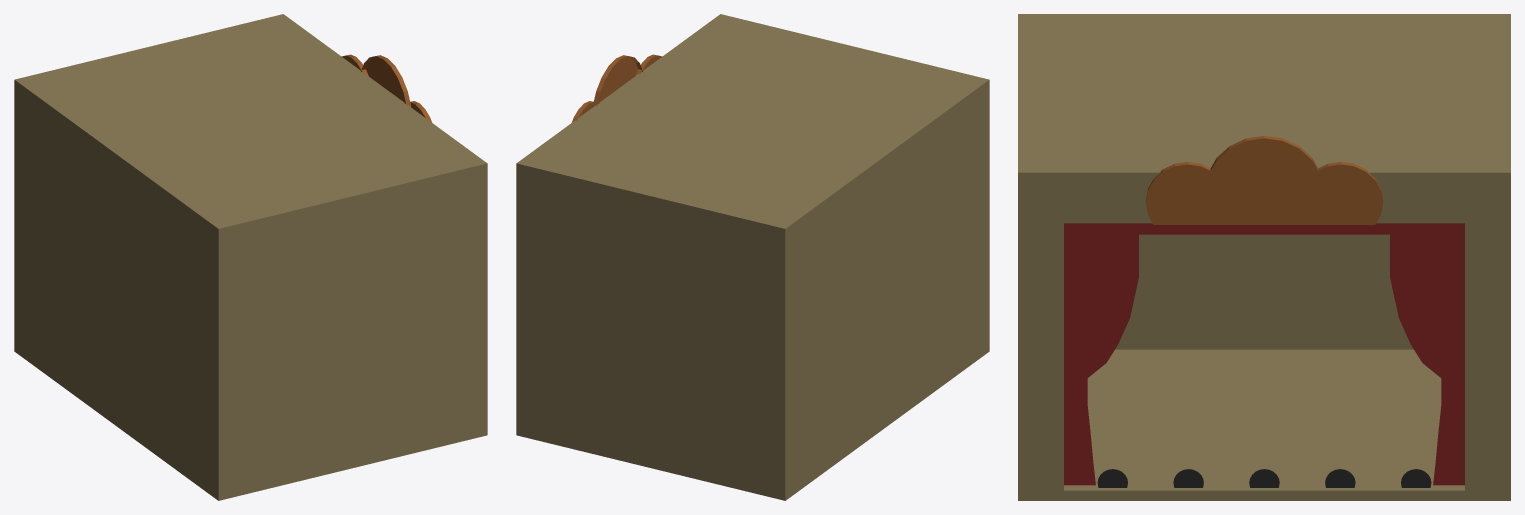
The model's file is Theatre1.fbx.
The picture shows the model from 3 angles, left to right: view 1: azimuth 30°, elevation 25°; view 2: azimuth 150°, elevation 25°; view 3: azimuth 270°, elevation 25°; orthographic projection. The views are drawn at different scales.
Parts seen in each view (by area): view 1: Theatre1; view 2: Theatre1; view 3: Theatre1.
Boxes of the visible parts, x1,y1,x2,y2 form: Theatre1: (14, 14, 487, 500); Theatre1: (516, 14, 989, 500); Theatre1: (1018, 14, 1510, 500).
Bounding box in the file's own units: 9.99 × 10.6 × 13.
